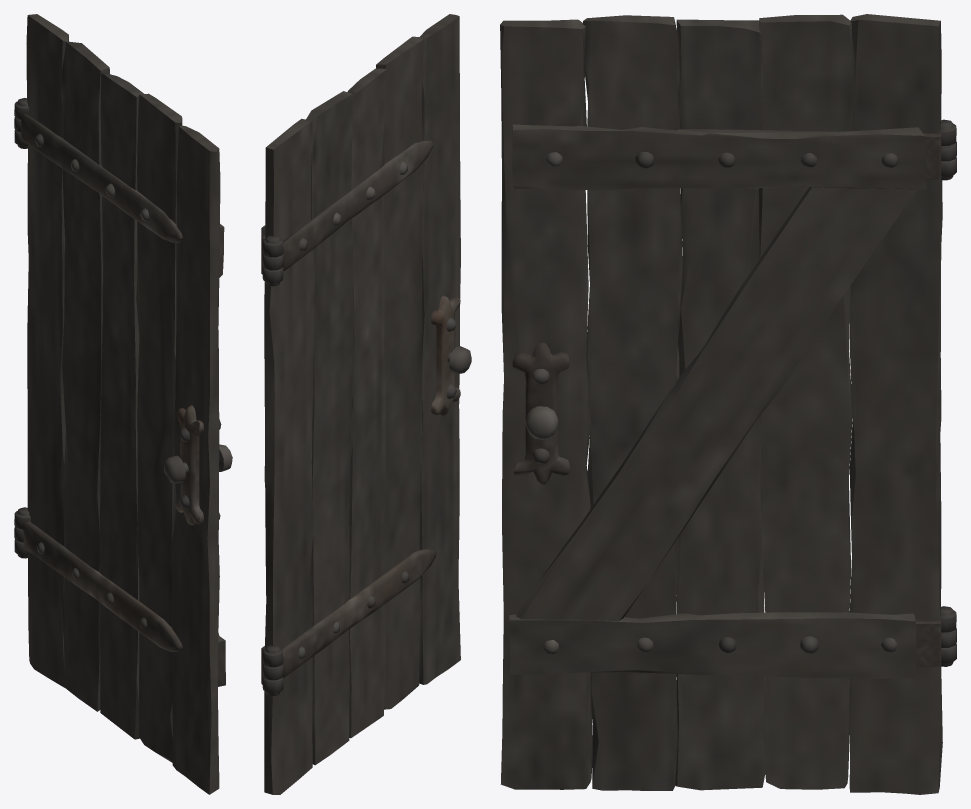
Rendered from Wood_Door_01_Test.fbx.
The picture shows the model from 3 angles, left to right: view 1: azimuth 30°, elevation 25°; view 2: azimuth 150°, elevation 25°; view 3: azimuth 270°, elevation 25°; orthographic projection. The views are drawn at different scales.
Parts seen in each view (by area): view 1: Group15821.005, Group15821; view 2: Group15821.005, Group15821; view 3: Group15821.005, Group15821.
Part boxes in pixels (box(x1,y1,x2,y2)): Group15821.005: box(26, 14, 225, 794); Group15821: box(14, 98, 232, 651); Group15821.005: box(261, 14, 460, 794); Group15821: box(261, 140, 471, 696); Group15821.005: box(500, 14, 942, 794); Group15821: box(512, 119, 956, 666).
Bounding box in the file's own units: 19.53 × 197 × 105.
